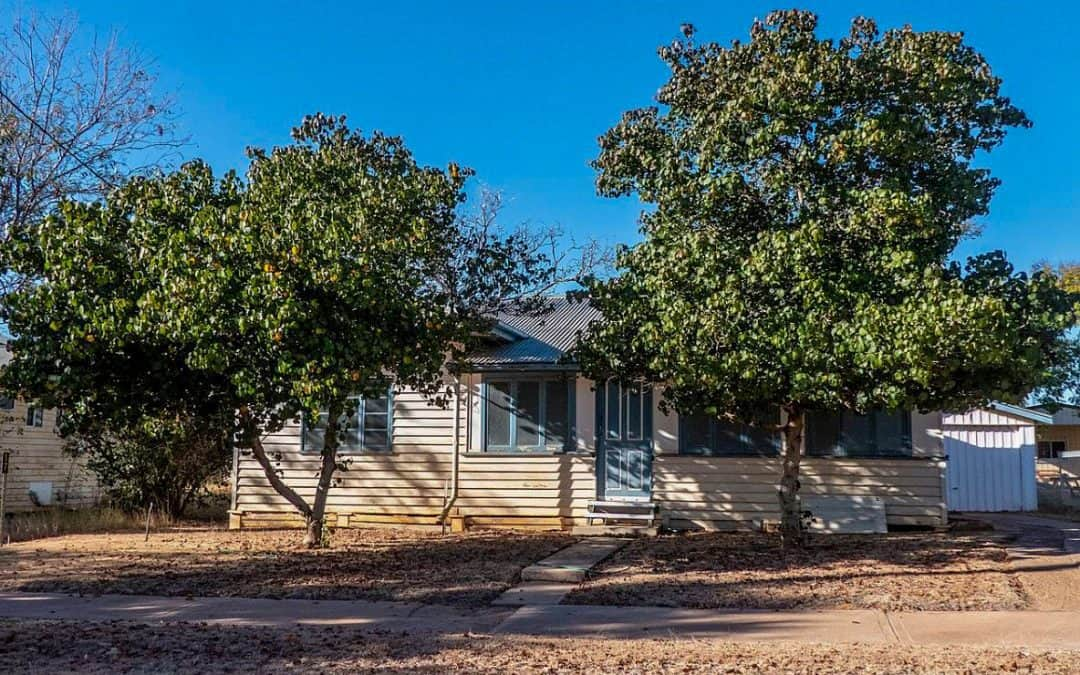tree: (590, 18, 1057, 547), (108, 77, 547, 554)
